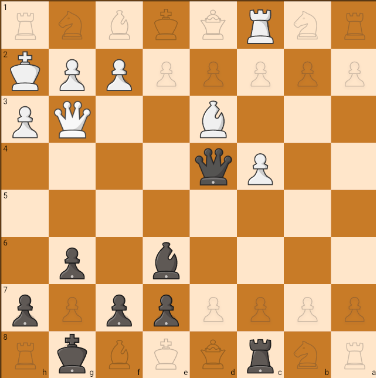bb: (147, 241, 184, 282)
bk: (51, 333, 94, 376)
bp: (3, 51, 46, 93), (52, 238, 89, 281), (147, 287, 185, 328), (5, 289, 44, 327), (101, 292, 138, 328)
bq: (190, 144, 235, 188)
br: (241, 334, 280, 376)
wb: (193, 100, 232, 139)
wp: (53, 52, 90, 93), (243, 146, 278, 189), (7, 101, 44, 141), (102, 52, 135, 91), (241, 164, 247, 170)
wq: (51, 100, 92, 141), (51, 116, 54, 122)
wr: (239, 4, 283, 45)
